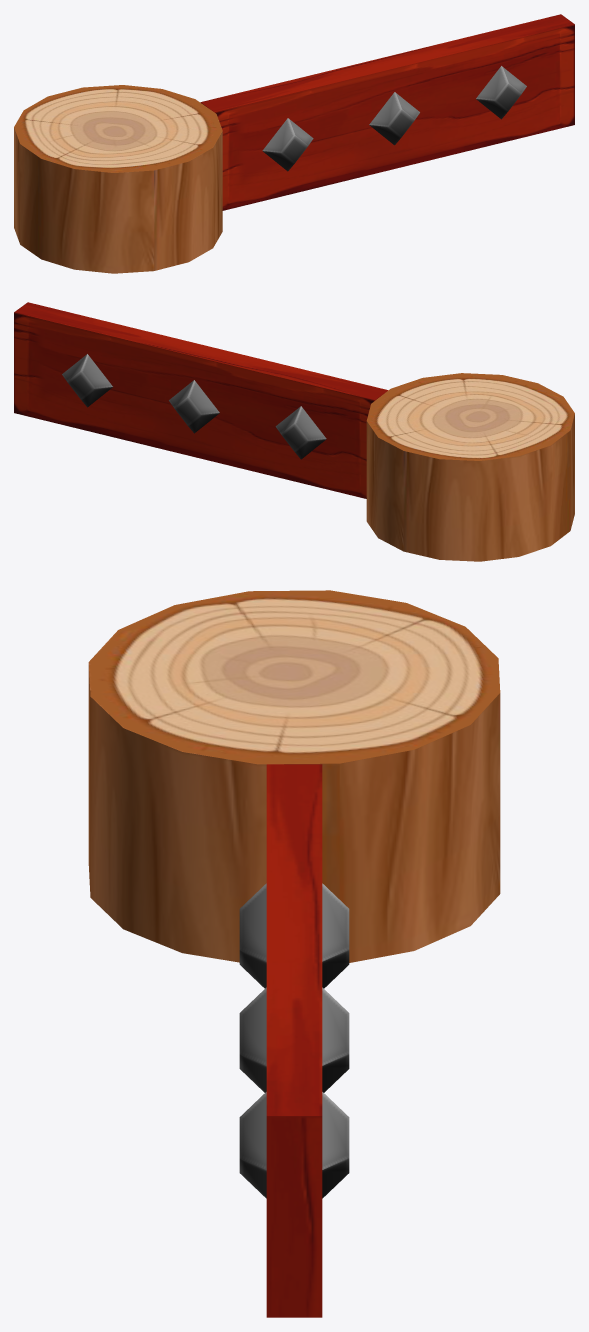
The model's file is one_blade_red_02.fbx.
The picture shows the model from 3 angles, top to bottom: view 1: azimuth 30°, elevation 25°; view 2: azimuth 150°, elevation 25°; view 3: azimuth 270°, elevation 25°; orthographic projection. The views are drawn at different scales.
Parts seen in each view (by area): view 1: one_blade_red_02; view 2: one_blade_red_02; view 3: one_blade_red_02.
Boxes of the visible parts, x1,y1,x2,y2 form: one_blade_red_02: (14, 14, 574, 273); one_blade_red_02: (14, 302, 574, 561); one_blade_red_02: (88, 590, 500, 1317).
Bounding box in the file's own units: 224 × 40 × 74.15.
